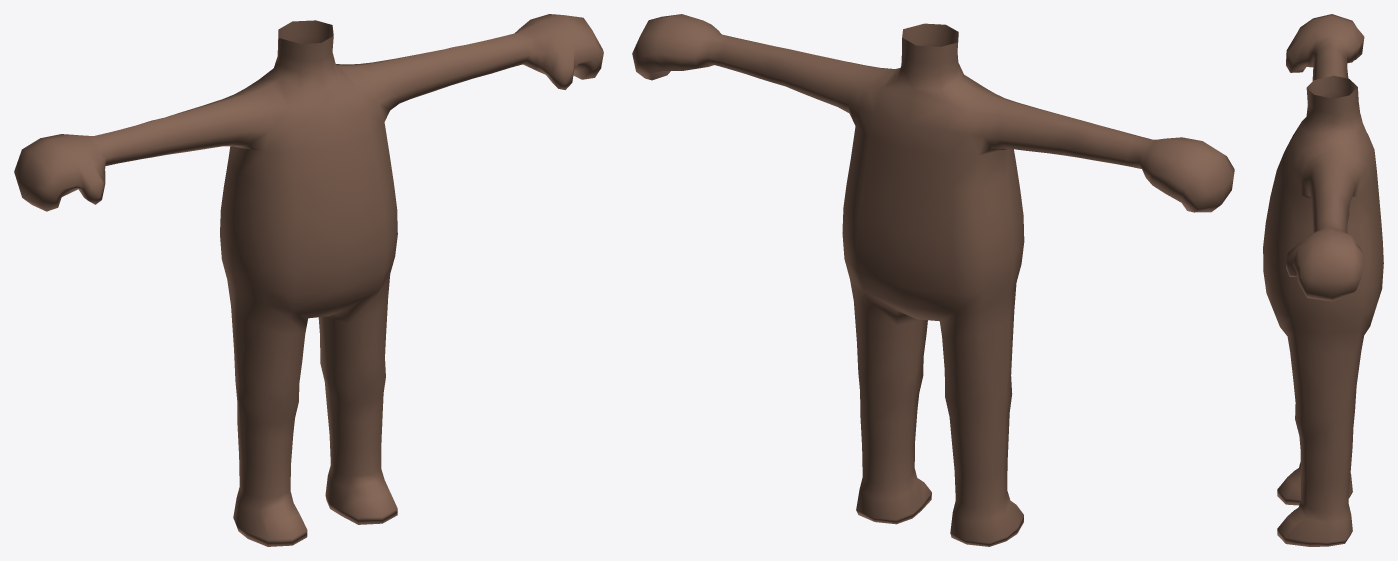
Rendered from Body_Black_1.fbx.
3 views of the same model, side by side, from view 1: azimuth 30°, elevation 25°; view 2: azimuth 150°, elevation 25°; view 3: azimuth 270°, elevation 25° (orthographic). The views are drawn at different scales.
Parts seen in each view (by area): view 1: Body_Black_1; view 2: Body_Black_1; view 3: Body_Black_1.
Part boxes in pixels (bbox=[...]): Body_Black_1: bbox=[14, 14, 603, 546]; Body_Black_1: bbox=[632, 14, 1234, 546]; Body_Black_1: bbox=[1263, 14, 1383, 546].
Bounding box in the file's own units: 130 × 104 × 26.46.
